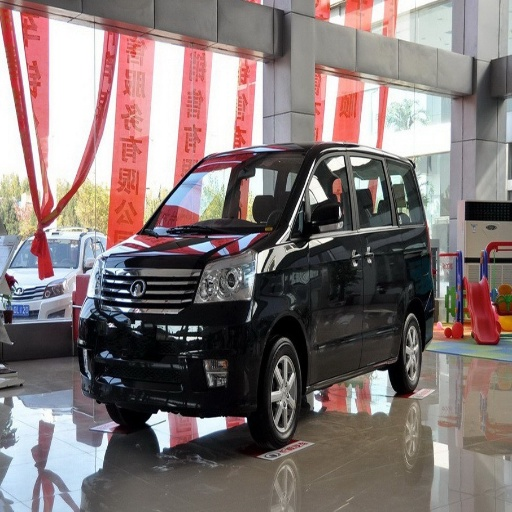back_left_door: (360, 230, 392, 360), (348, 152, 378, 216)
front_bumper: (75, 256, 267, 410)
front_glass: (145, 152, 305, 233)
front_left_door: (293, 149, 364, 376)
trunk: (389, 228, 437, 320)
